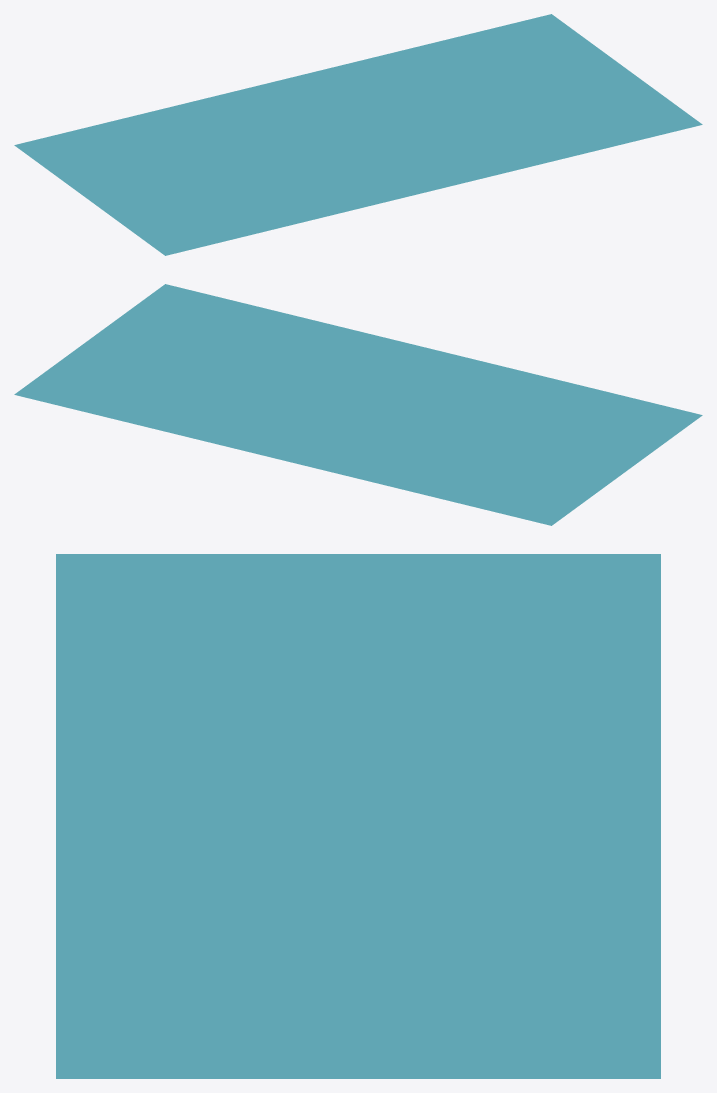
File: water_surface.glb
The picture shows the model from 3 angles, top to bottom: view 1: azimuth 30°, elevation 25°; view 2: azimuth 150°, elevation 25°; view 3: azimuth 270°, elevation 25°; orthographic projection. The views are drawn at different scales.
Visible parts, largest first — view 1: tidal_water_surface; view 2: tidal_water_surface; view 3: tidal_water_surface.
Part boxes in pixels (x1,y1,x2,y2): tidal_water_surface: [14, 14, 702, 255]; tidal_water_surface: [14, 284, 702, 525]; tidal_water_surface: [56, 554, 660, 1078].
Bounding box in the file's own units: 16 × 0 × 7.8.
